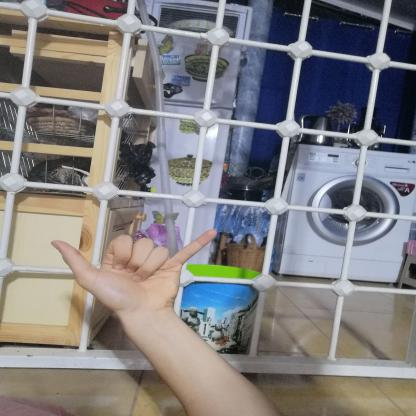YA: (39, 220, 227, 322)
